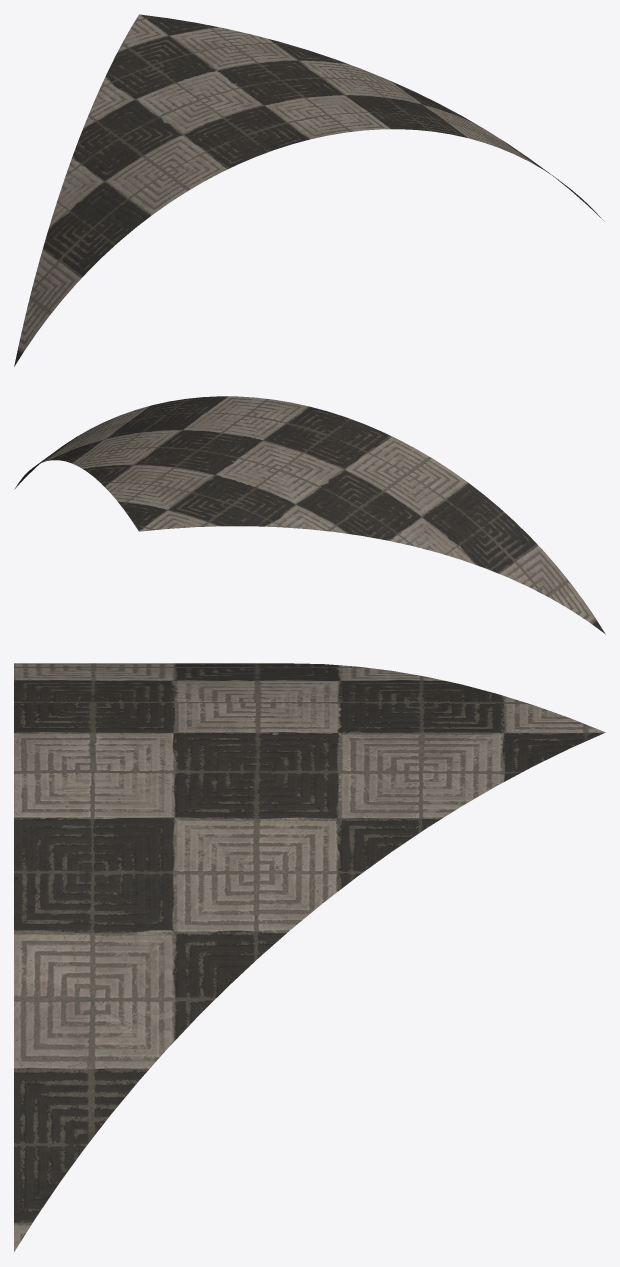
Rendered from FBX_Ceiling_Open.fbx.
The picture shows the model from 3 angles, top to bottom: view 1: azimuth 30°, elevation 25°; view 2: azimuth 150°, elevation 25°; view 3: azimuth 270°, elevation 25°; orthographic projection. The views are drawn at different scales.
Parts seen in each view (by area): view 1: Ceiling_Open; view 2: Ceiling_Open; view 3: Ceiling_Open.
Part boxes in pixels (left/top/right/bottom): Ceiling_Open: left=14, top=14, right=604, bottom=366; Ceiling_Open: left=14, top=396, right=605, bottom=634; Ceiling_Open: left=14, top=663, right=605, bottom=1251.
Size of the model in its own units: 962 by 242 by 481.
Materials: 1 (1 with a texture image).
